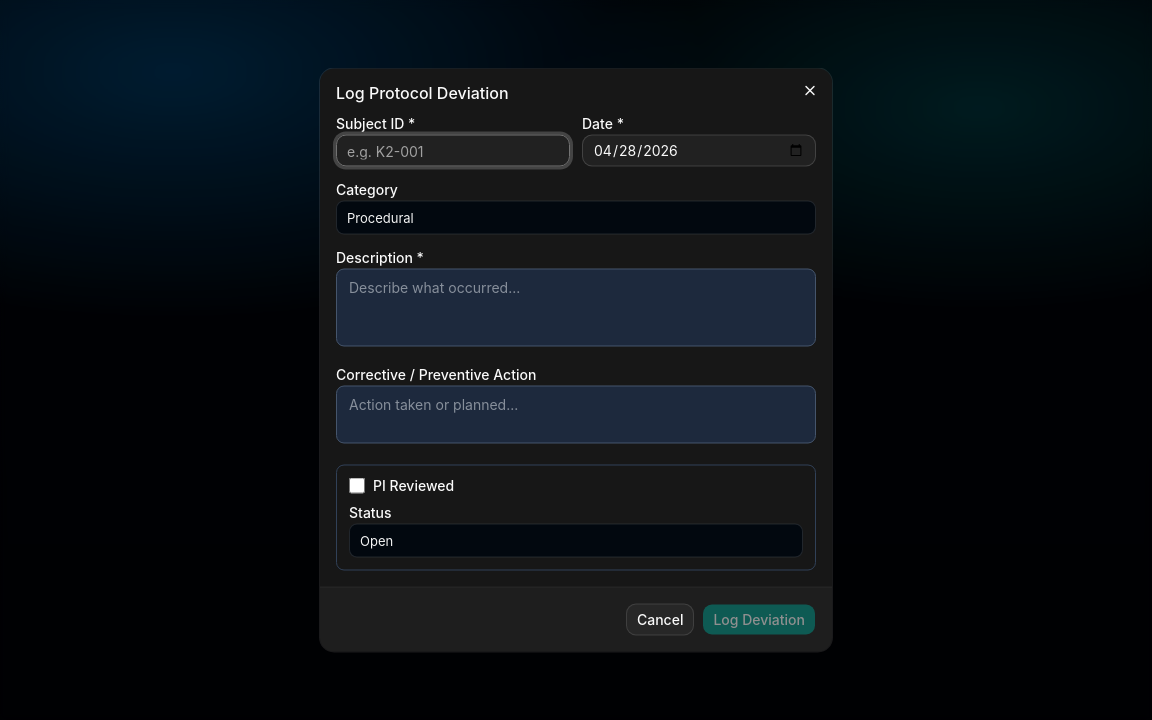
Test case: DeviationForm › shows PI review date field when PI Reviewed checked
This screenshot has width=1152, height=720.
What coordinates should you click on to do the following:
click the checkbox labelled "PI Reviewed"
I would click on:
 (357, 486)
Its box is [349,478,365,494].
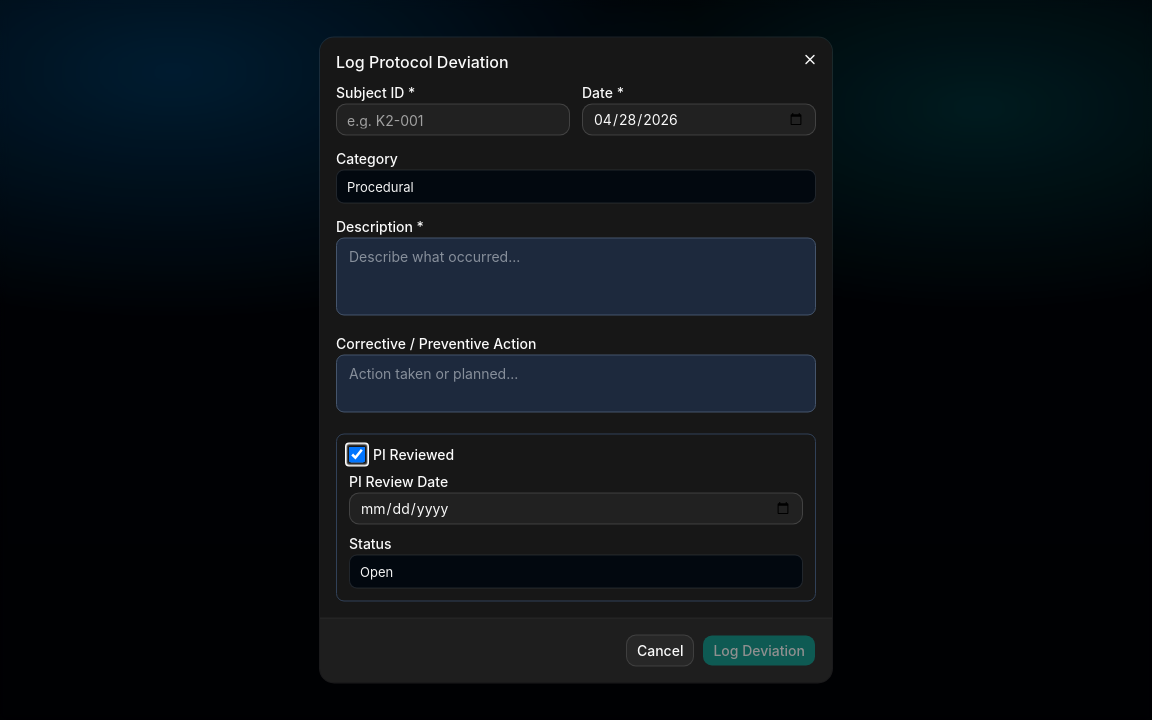
Expected: the date field labelled "PI Review Date" is shown, [349,492,803,524]
